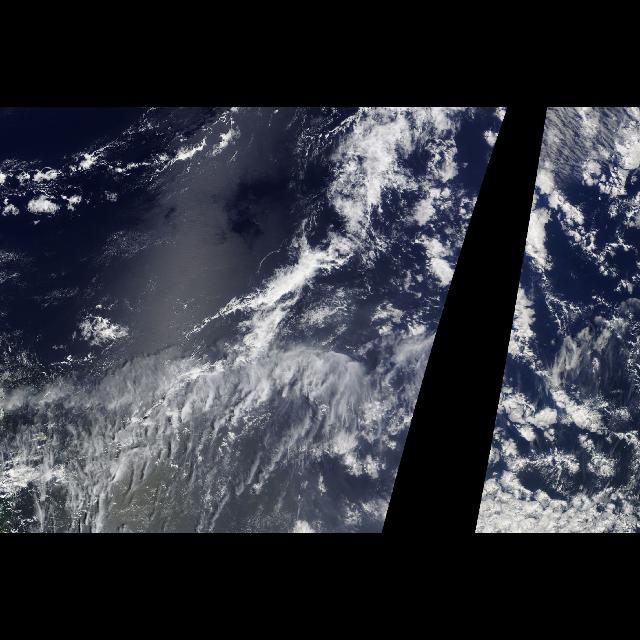Fish: (6, 340, 404, 500)
Gravel: (2, 153, 106, 241)
